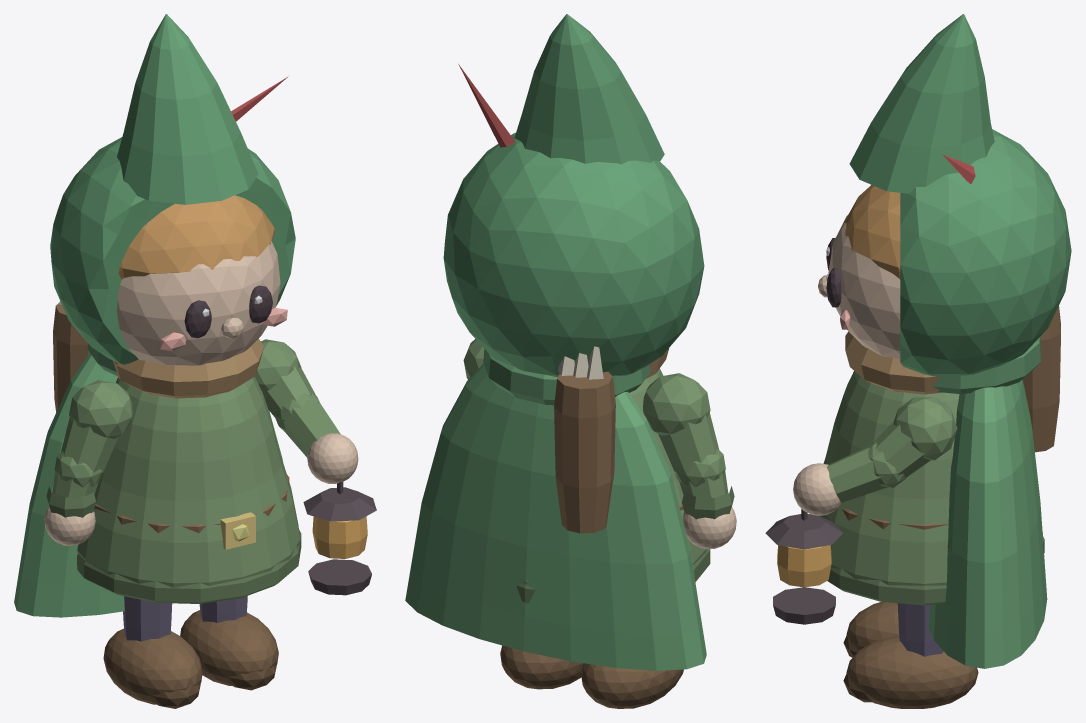
File: hero_wren.glb
3 renders of one model, left to right at view 1: azimuth 30°, elevation 25°; view 2: azimuth 150°, elevation 25°; view 3: azimuth 270°, elevation 25°, orthographic. The views are drawn at different scales.
Visible parts, largest first — view 1: hero_wren; view 2: hero_wren; view 3: hero_wren.
Boxes of the visible parts, x1=… form: hero_wren: x1=14, y1=14, x2=376, y2=708; hero_wren: x1=405, y1=14, x2=736, y2=708; hero_wren: x1=765, y1=14, x2=1071, y2=708.
Size of the model in its own units: 1.1 by 2.45 by 1.02.
